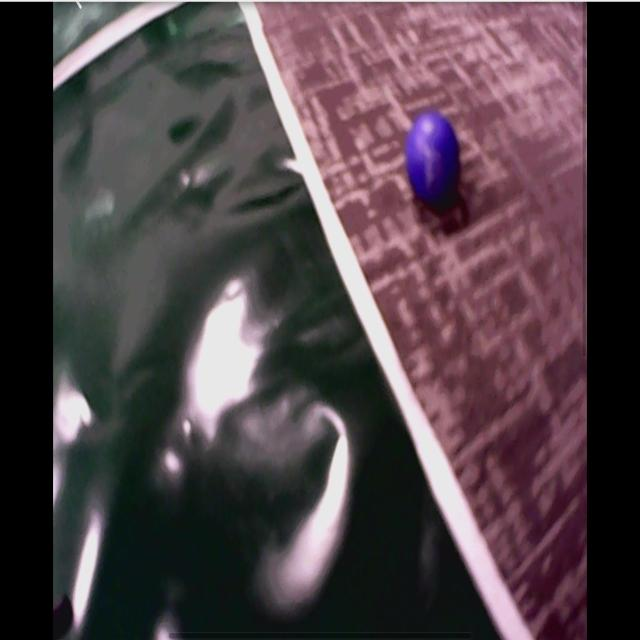ball: (407, 108, 462, 210)
